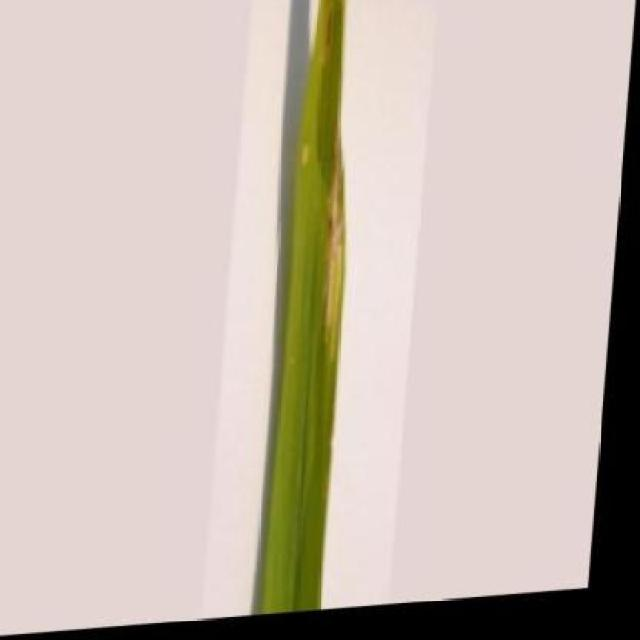Brown_Spot: (254, 0, 374, 622)
